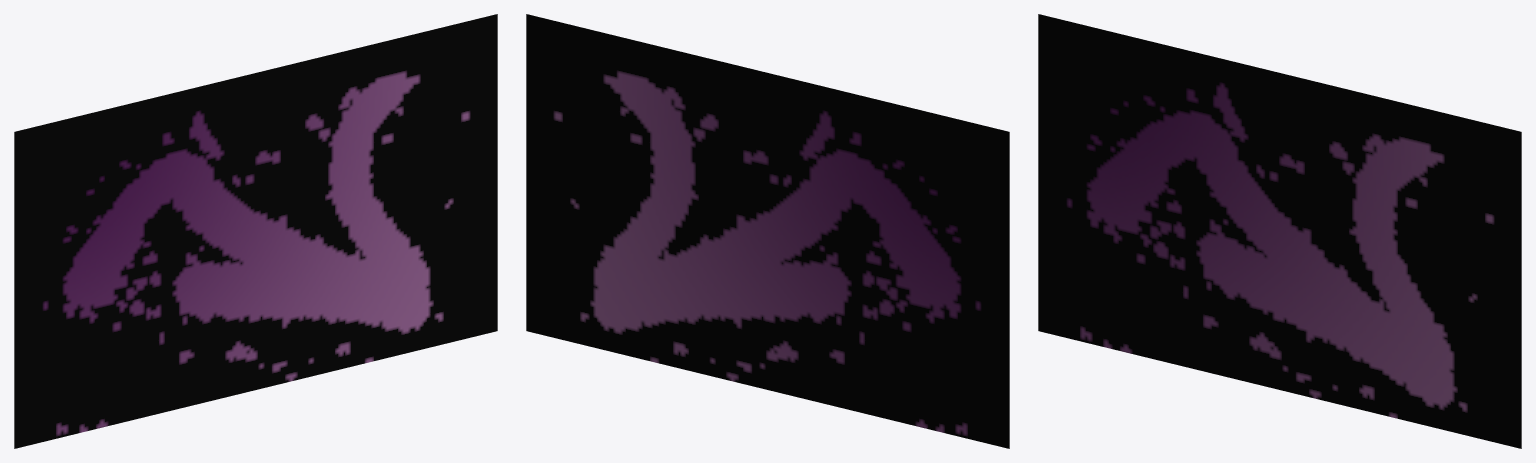
Rendered from kill_graffiti_arrow.FBX.
3 views of the same model, side by side, from view 1: azimuth 30°, elevation 25°; view 2: azimuth 150°, elevation 25°; view 3: azimuth 330°, elevation 25° (orthographic).
Parts seen in each view (by area): view 1: kill_graffiti_arrow; view 2: kill_graffiti_arrow; view 3: kill_graffiti_arrow.
Boxes of the visible parts, <box> form: kill_graffiti_arrow: <box>14,14,497,448</box>; kill_graffiti_arrow: <box>526,14,1009,448</box>; kill_graffiti_arrow: <box>1038,14,1521,448</box>.
Size of the model in its own units: 43.77 by 27.46 by 1.04e-05.
